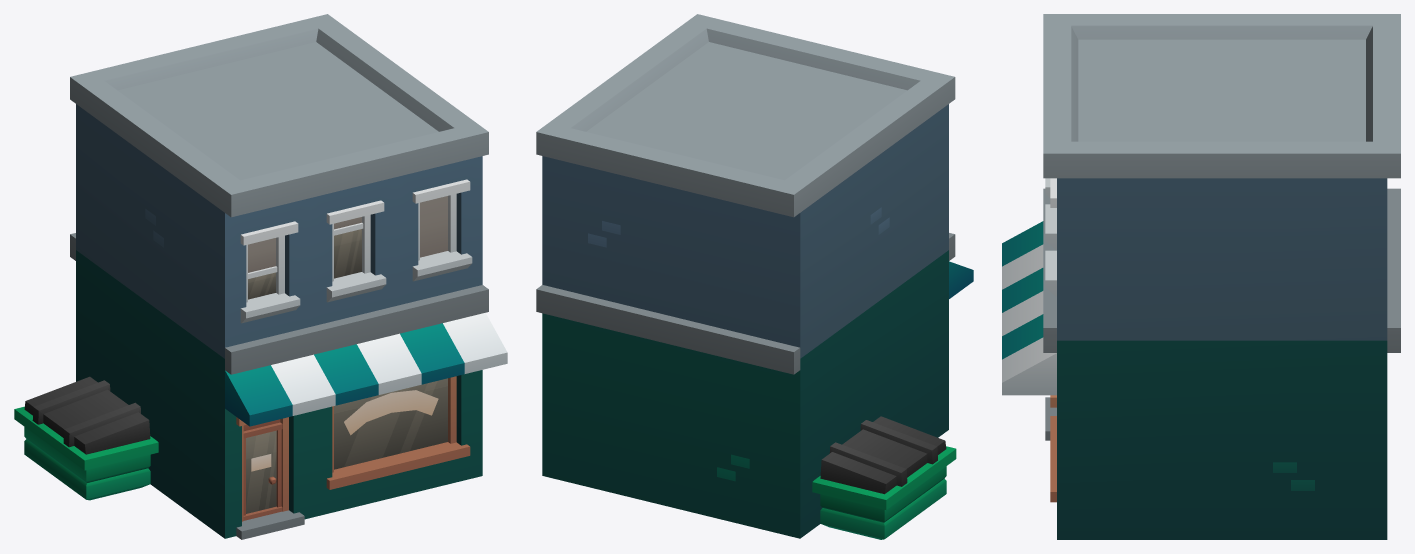
3 views of the same model, side by side, from view 1: azimuth 30°, elevation 25°; view 2: azimuth 150°, elevation 25°; view 3: azimuth 270°, elevation 25° (orthographic). The views are drawn at different scales.
Parts seen in each view (by area): view 1: building_A; view 2: building_A; view 3: building_A.
Boxes of the visible parts, x1,y1,x2,y2 form: building_A: (14,14,507,539); building_A: (536,14,973,539); building_A: (1002,14,1400,539).
Bounding box in the file's own units: 1.55 × 1.55 × 1.45.
Materials: 1 (1 with a texture image).
